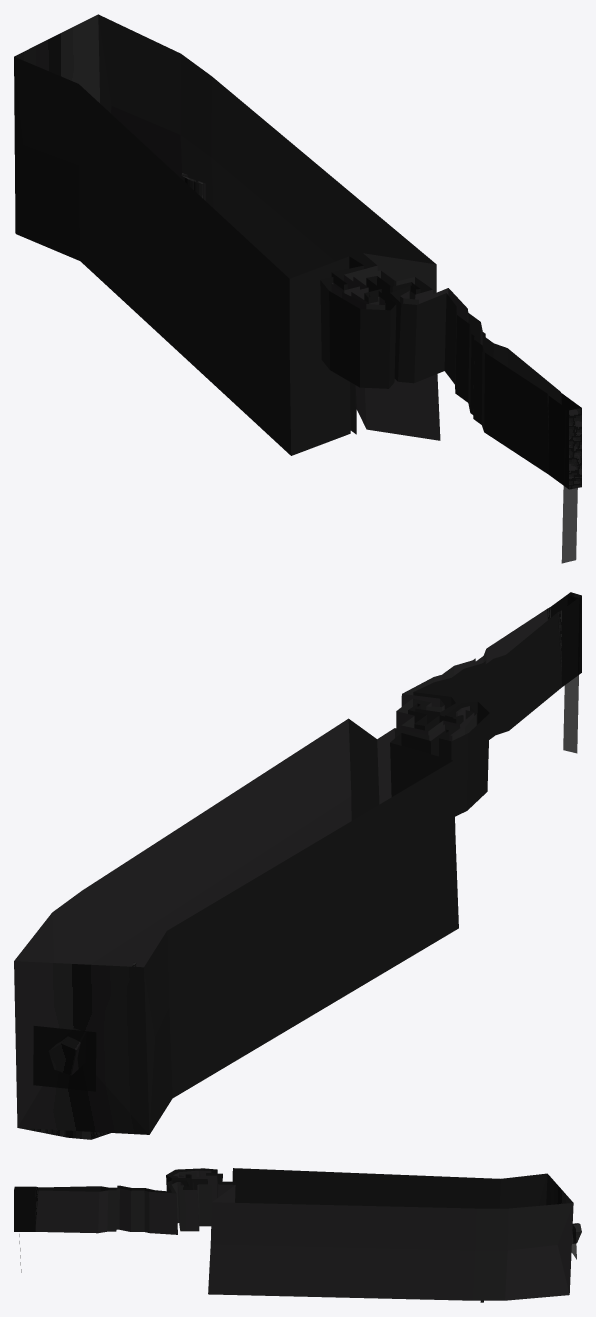
Rendered from Map.glb.
The picture shows the model from 3 angles, top to bottom: view 1: azimuth 30°, elevation 25°; view 2: azimuth 150°, elevation 25°; view 3: azimuth 270°, elevation 25°; orthographic projection. The views are drawn at different scales.
Visible parts, largest first — view 1: Cube, Plane; view 2: Cube, Plane.001, Plane; view 3: Cube.
Boxes of the visible parts, <box> form: Cube: <box>14,14,581,489</box>; Plane: <box>561,406,578,563</box>; Cube: <box>14,592,581,1139</box>; Plane.001: <box>33,1026,96,1091</box>; Plane: <box>563,595,580,753</box>; Cube: <box>14,1168,581,1302</box>.
Size of the model in its own units: 122 by 151 by 737.
2 materials, 1 textured.
